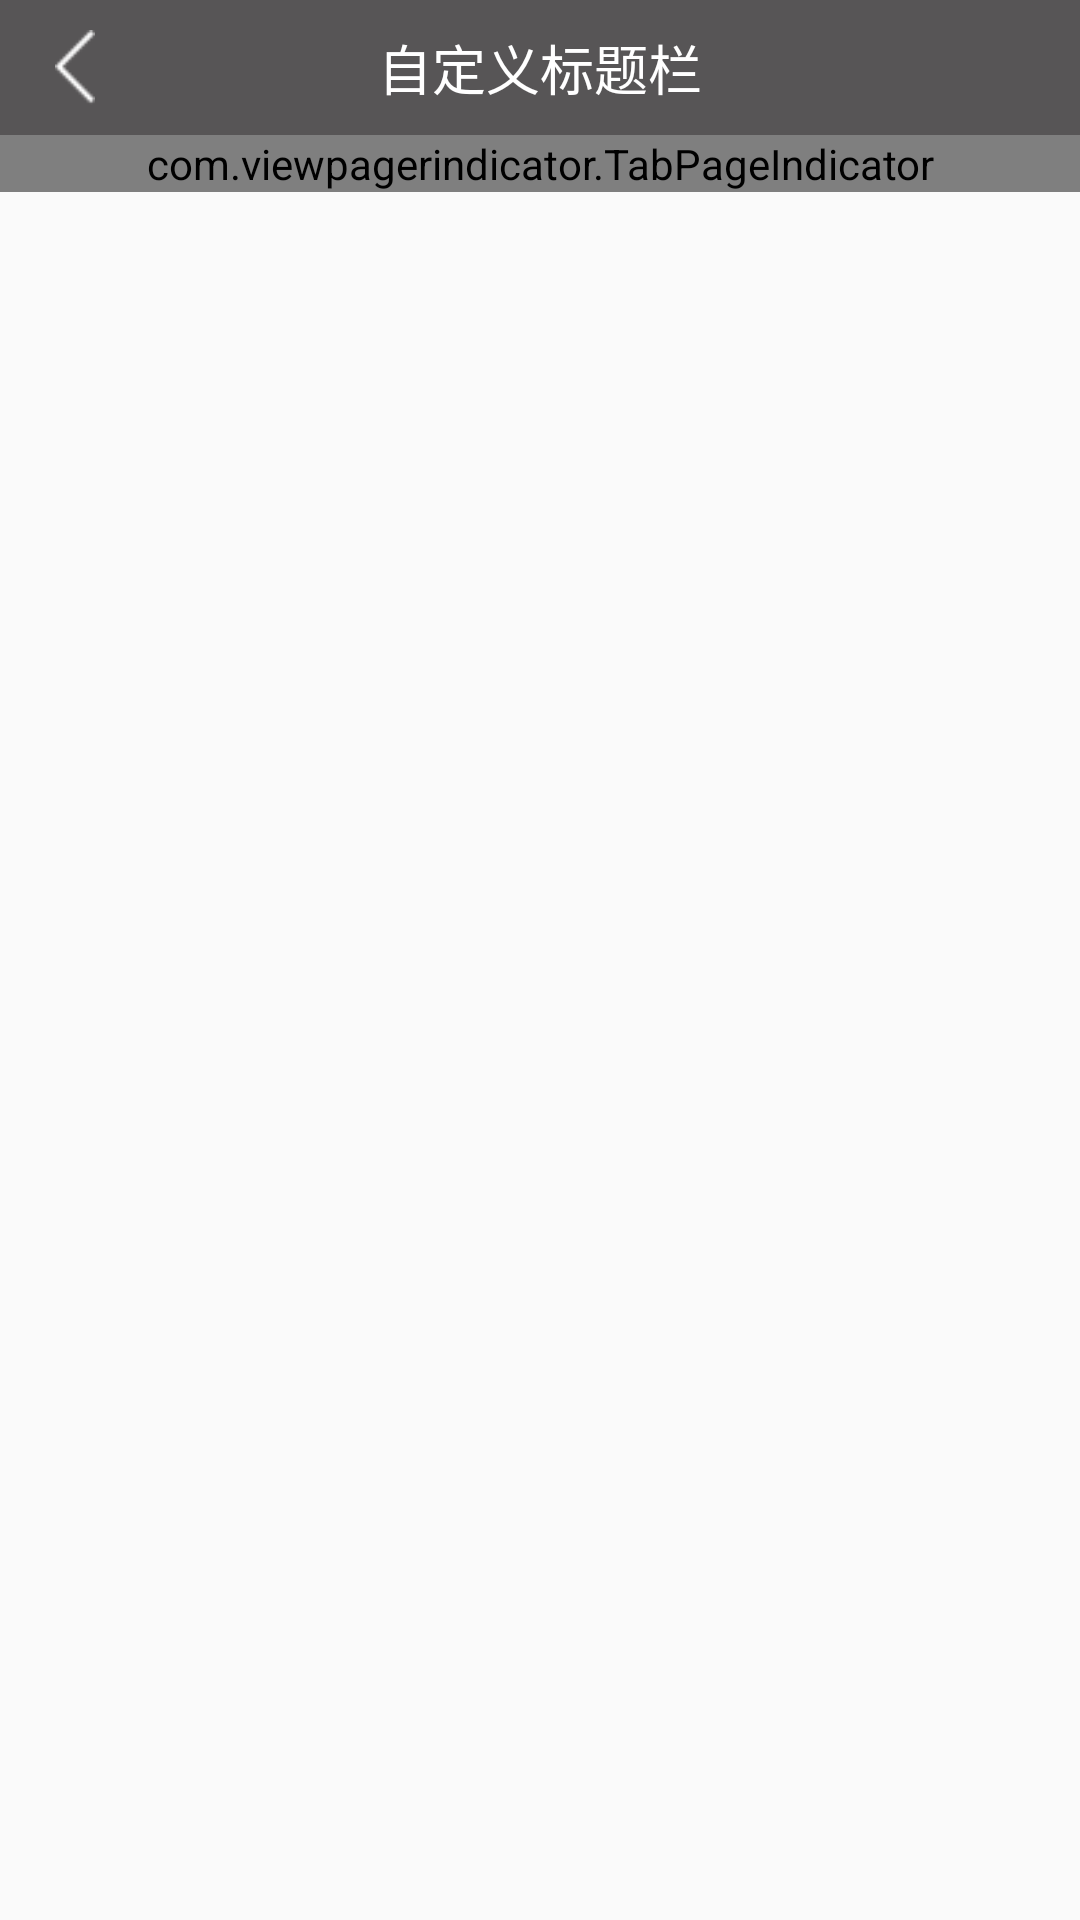

Icons on this 1080×1920 Android screen, each with the point to tap as point (x, y):
backcall: point (75, 66)
